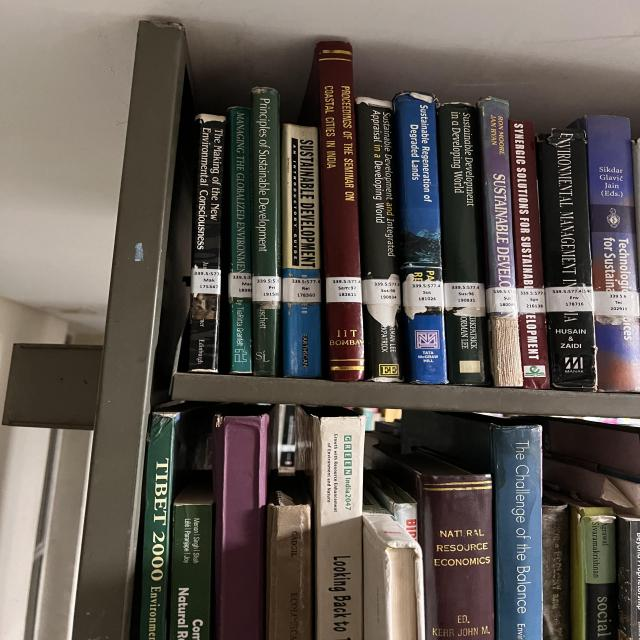Book: (300, 41, 365, 381), (572, 115, 640, 391), (393, 92, 448, 384), (537, 129, 597, 390), (437, 102, 490, 385), (355, 98, 403, 382), (478, 98, 523, 388), (508, 120, 550, 389), (282, 124, 322, 378), (188, 115, 225, 372), (252, 88, 282, 376), (227, 108, 252, 374)
Label: (403, 274, 443, 308), (545, 286, 593, 312), (362, 274, 402, 305), (593, 291, 640, 316), (443, 282, 485, 309), (282, 278, 322, 302), (327, 276, 362, 302), (192, 268, 222, 295), (252, 276, 282, 301), (517, 288, 545, 314), (228, 272, 252, 298), (508, 296, 512, 298)
